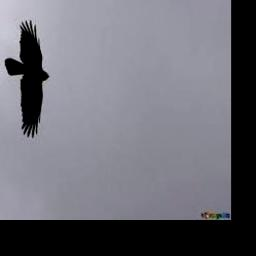Crow: (4, 20, 48, 139)
